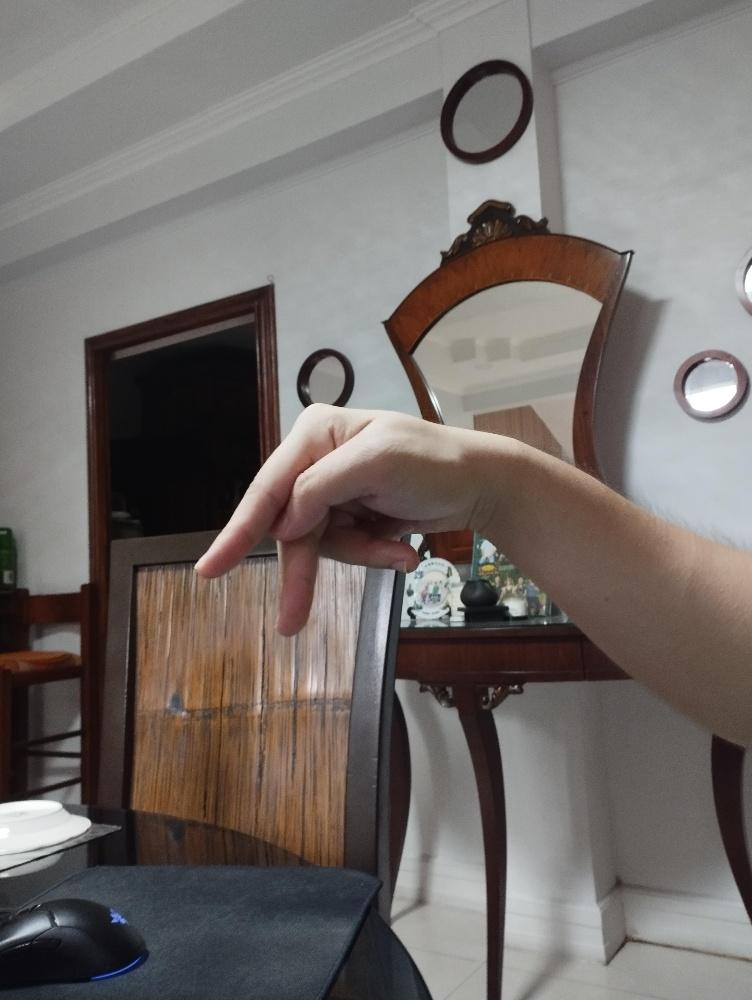p: (191, 398, 486, 640)
